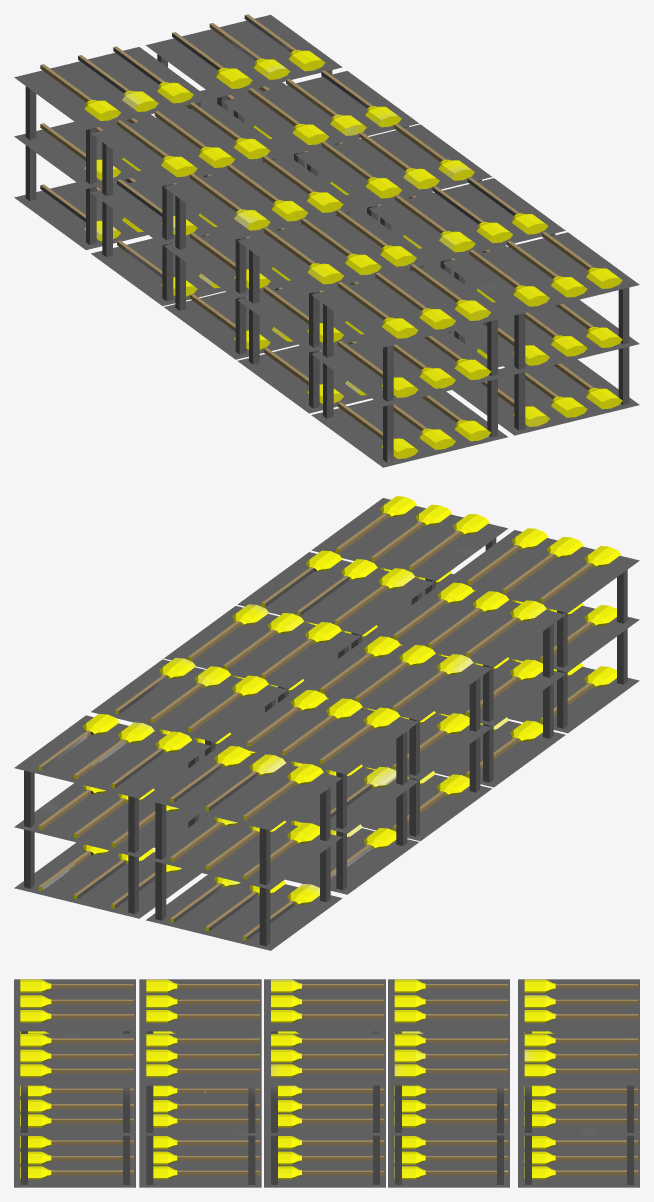
The model's file is EstanteriaEscoba5x2.obj.
The picture shows the model from 3 angles, top to bottom: view 1: azimuth 30°, elevation 25°; view 2: azimuth 150°, elevation 25°; view 3: azimuth 270°, elevation 25°; orthographic projection. The views are drawn at different scales.
Visible parts, largest first — view 1: EstanteEscoba5X2; view 2: EstanteEscoba5X2; view 3: EstanteEscoba5X2.
Part boxes in pixels (<box>): EstanteEscoba5X2: <box>14,14,639,467</box>; EstanteEscoba5X2: <box>14,496,639,950</box>; EstanteEscoba5X2: <box>14,979,639,1187</box>.
Bounding box in the file's own units: 4.1 × 1.99 × 10.2.
1 material, 1 textured.
